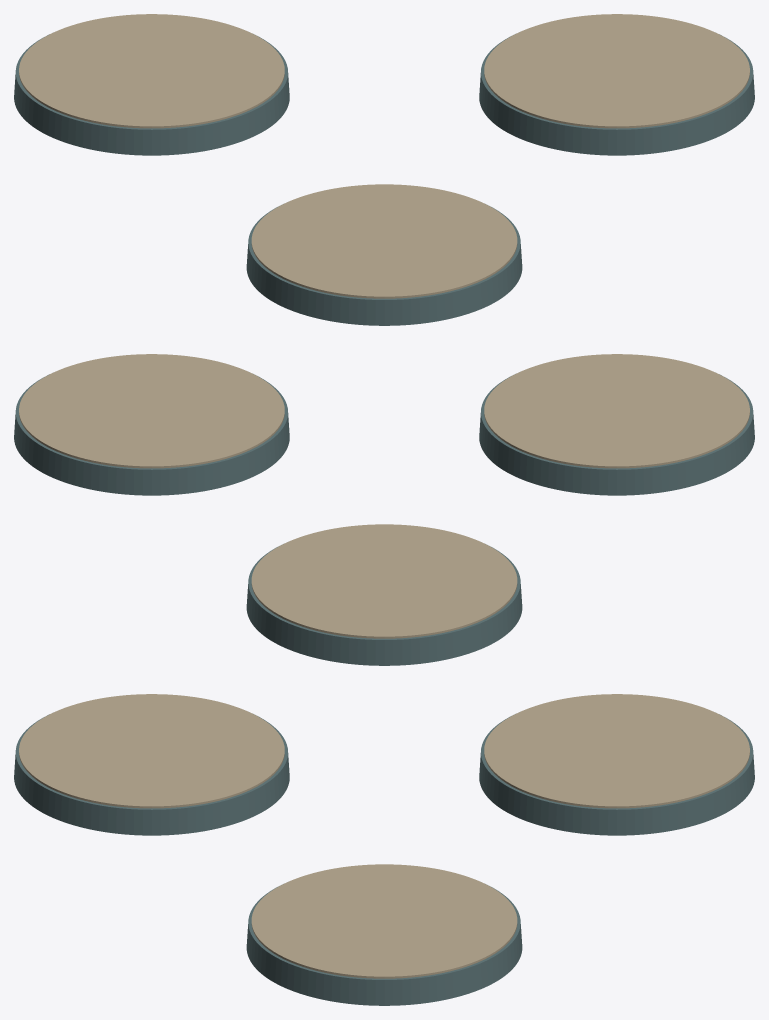
File: SM_R02B_Arena_Floors.fbx
The picture shows the model from 3 angles, top to bottom: view 1: azimuth 30°, elevation 25°; view 2: azimuth 150°, elevation 25°; view 3: azimuth 270°, elevation 25°; orthographic projection.
Parts seen in each view (by area): view 1: SM_R02B_Arena_Floors; view 2: SM_R02B_Arena_Floors; view 3: SM_R02B_Arena_Floors.
Boxes of the visible parts, box(x1,y1,x2,y2) form: SM_R02B_Arena_Floors: box(14, 14, 754, 325); SM_R02B_Arena_Floors: box(14, 354, 754, 665); SM_R02B_Arena_Floors: box(14, 694, 754, 1005).
Size of the model in its own units: 6127 by 6690 by 270.
